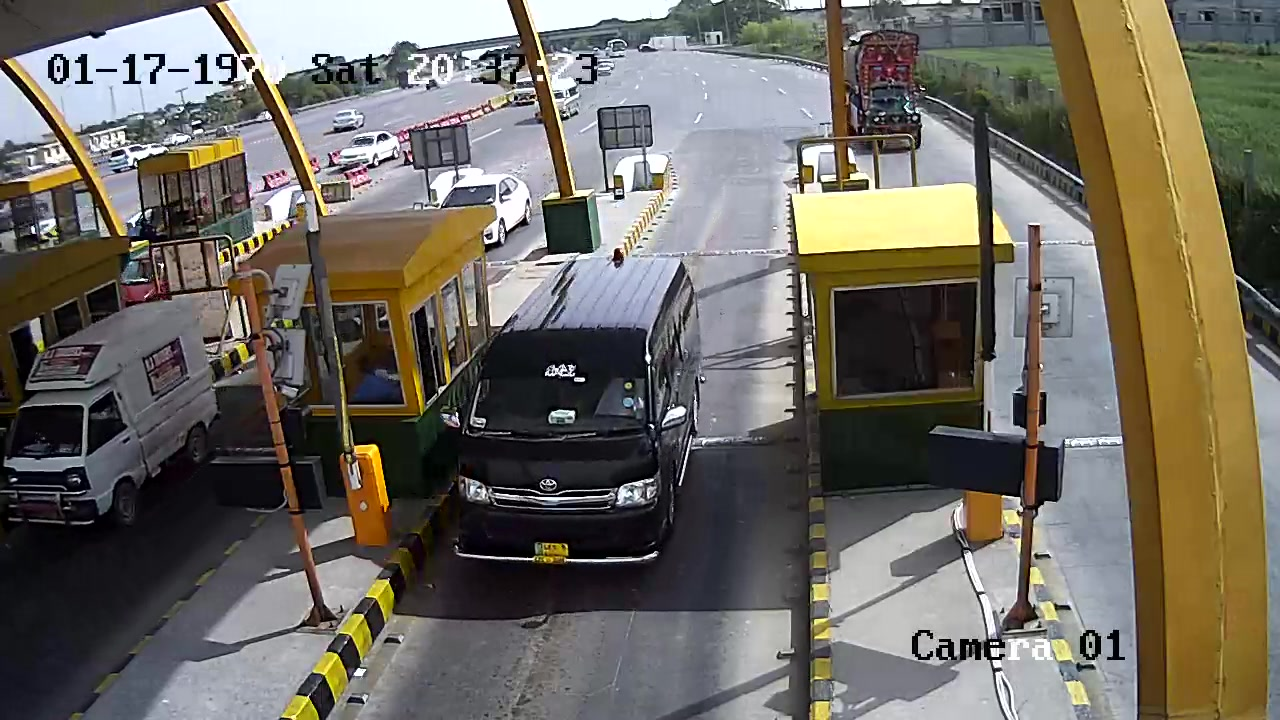F3: (439, 245, 712, 619)
